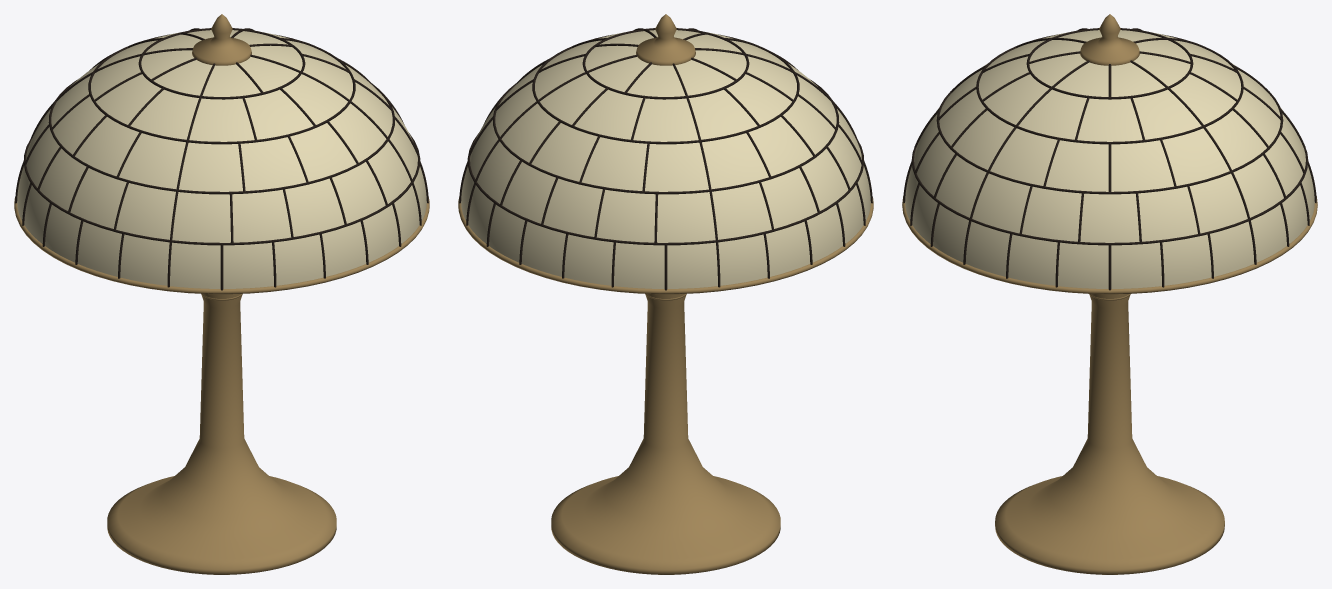
Rendered from Desk_Lamp.fbx.
The picture shows the model from 3 angles, left to right: view 1: azimuth 30°, elevation 25°; view 2: azimuth 150°, elevation 25°; view 3: azimuth 270°, elevation 25°; orthographic projection.
Parts seen in each view (by area): view 1: Opal glass continuous shell.001, Cast lamp foot.001, Rolled shade rim.001, Shade cap and finial.001, Glass cell horizontal came.008, Glass cell horizontal came.007, Glass cell horizontal came.006, Glass cell horizontal came.005; view 2: Opal glass continuous shell.001, Cast lamp foot.001, Rolled shade rim.001, Shade cap and finial.001, Glass cell horizontal came.008, Glass cell horizontal came.007, Glass cell horizontal came.006, Glass cell horizontal came.005; view 3: Opal glass continuous shell.001, Cast lamp foot.001, Rolled shade rim.001, Shade cap and finial.001, Glass cell horizontal came.008, Glass cell horizontal came.007, Glass cell horizontal came.006, Glass cell horizontal came.005.
Part boxes in pixels (left/top/right/bottom): Opal glass continuous shell.001: left=17, top=30, right=426, bottom=288; Cast lamp foot.001: left=107, top=294, right=336, bottom=574; Rolled shade rim.001: left=14, top=197, right=429, bottom=294; Shade cap and finial.001: left=192, top=14, right=251, bottom=65; Glass cell horizontal came.008: left=23, top=133, right=420, bottom=245; Glass cell horizontal came.007: left=48, top=79, right=395, bottom=194; Glass cell horizontal came.006: left=88, top=34, right=355, bottom=144; Glass cell horizontal came.005: left=138, top=28, right=305, bottom=99; Opal glass continuous shell.001: left=461, top=30, right=870, bottom=288; Cast lamp foot.001: left=551, top=294, right=780, bottom=574; Rolled shade rim.001: left=458, top=197, right=873, bottom=294; Shade cap and finial.001: left=636, top=14, right=695, bottom=65; Glass cell horizontal came.008: left=467, top=133, right=864, bottom=245; Glass cell horizontal came.007: left=492, top=79, right=839, bottom=194; Glass cell horizontal came.006: left=532, top=34, right=799, bottom=144; Glass cell horizontal came.005: left=582, top=28, right=749, bottom=99; Opal glass continuous shell.001: left=905, top=30, right=1314, bottom=288; Cast lamp foot.001: left=995, top=294, right=1224, bottom=574; Rolled shade rim.001: left=902, top=195, right=1317, bottom=294; Shade cap and finial.001: left=1080, top=14, right=1139, bottom=65; Glass cell horizontal came.008: left=911, top=147, right=1308, bottom=245; Glass cell horizontal came.007: left=936, top=91, right=1283, bottom=194; Glass cell horizontal came.006: left=976, top=34, right=1243, bottom=144; Glass cell horizontal came.005: left=1026, top=28, right=1193, bottom=99.
Size of the model in its own units: 0.503 by 0.693 by 0.503.
